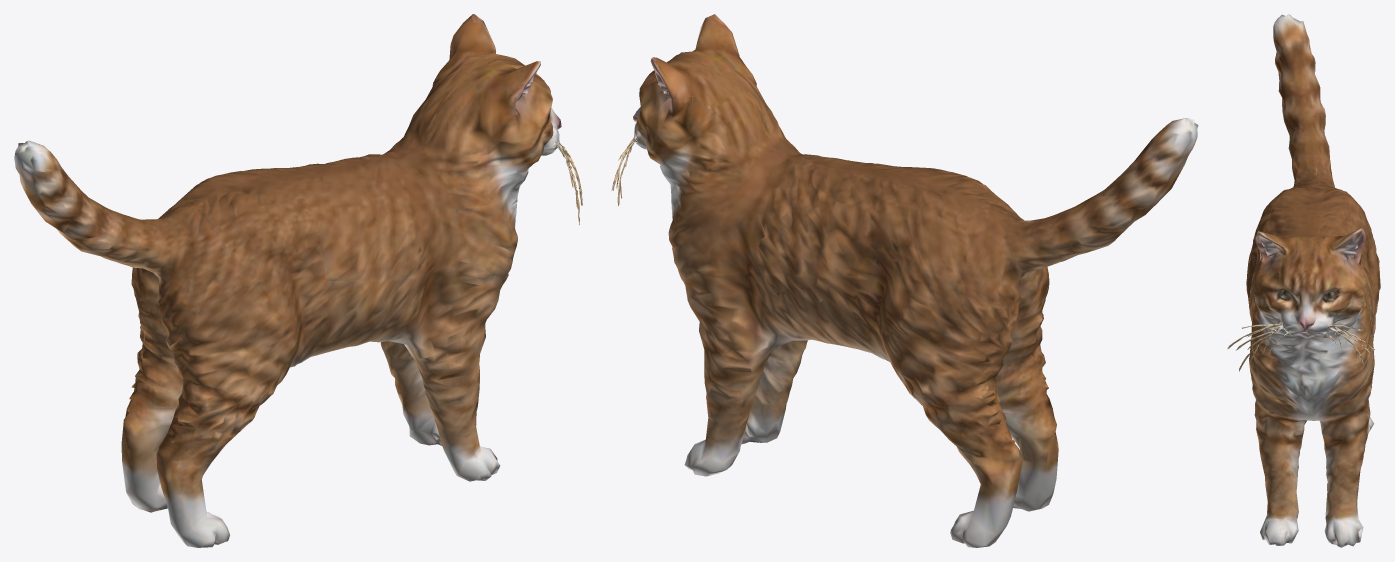
Rendered from LASERTATER-lo.glb.
3 views of the same model, side by side, from view 1: azimuth 30°, elevation 25°; view 2: azimuth 150°, elevation 25°; view 3: azimuth 270°, elevation 25° (orthographic). The views are drawn at different scales.
Visible parts, largest first — view 1: tripo_node_6e248fd5-f9af-43b9-9211-2b25bf808153; view 2: tripo_node_6e248fd5-f9af-43b9-9211-2b25bf808153; view 3: tripo_node_6e248fd5-f9af-43b9-9211-2b25bf808153.
Boxes of the visible parts, x1,y1,x2,y2 form: tripo_node_6e248fd5-f9af-43b9-9211-2b25bf808153: [14, 14, 582, 547]; tripo_node_6e248fd5-f9af-43b9-9211-2b25bf808153: [611, 14, 1198, 547]; tripo_node_6e248fd5-f9af-43b9-9211-2b25bf808153: [1227, 14, 1380, 547].
Bounding box in the file's own units: 1.32 × 0.9971 × 0.3919.
1 material, 1 textured.
